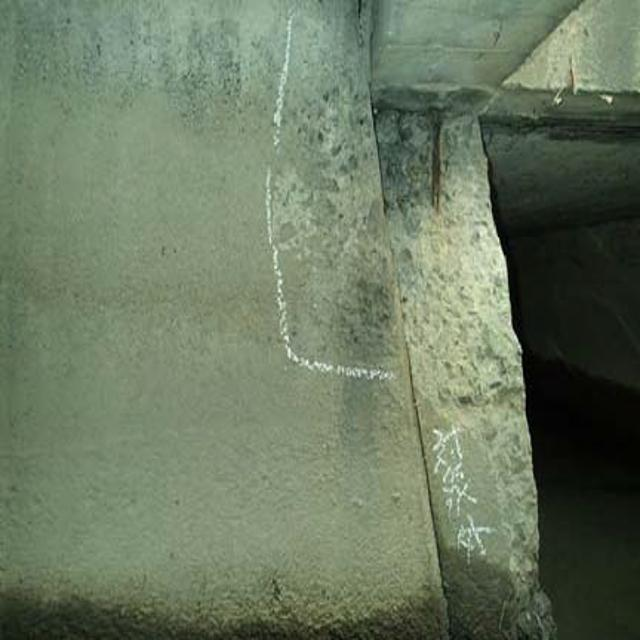spalling: (267, 72, 537, 577)
